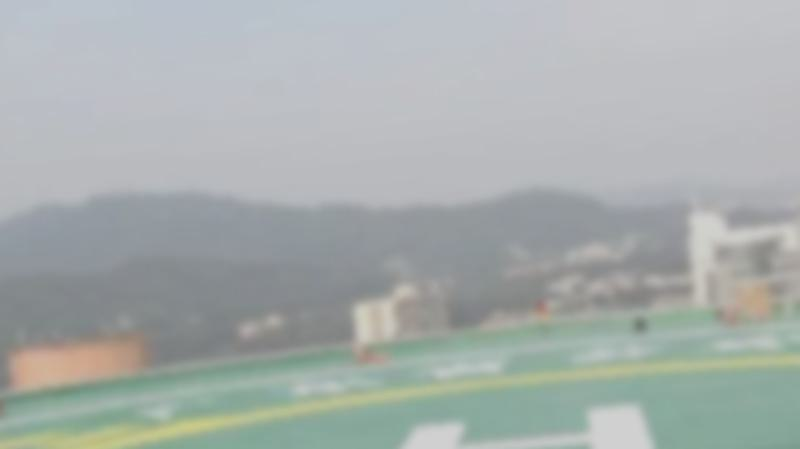Apron: (1, 345, 800, 449)
